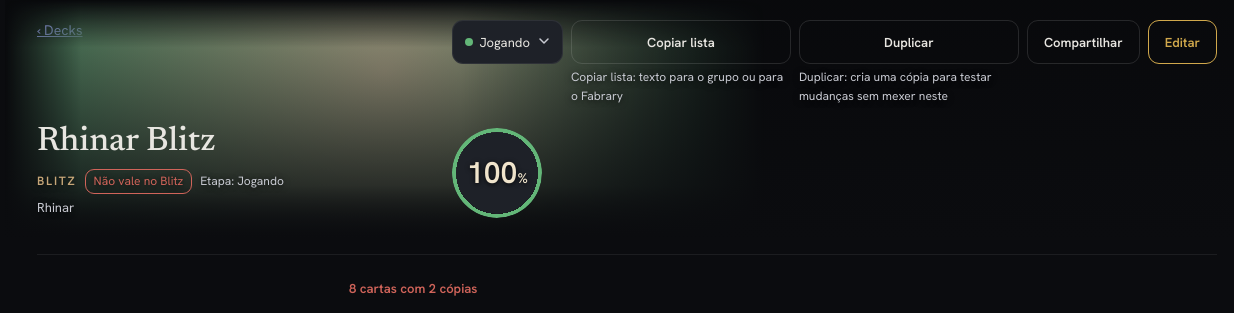
DeckDetailLayout — the verdict and the stage › the header shows the verdict and the stage apart
Expected: the text with test id "legality-badge" reads "Não vale no Blitz", [94, 173, 183, 189]
Expected: the text with test id "deck-stage-line" reads "Etapa: Jogando", [200, 173, 284, 189]
Click the dropdown at (508, 42), box [452, 20, 563, 64]
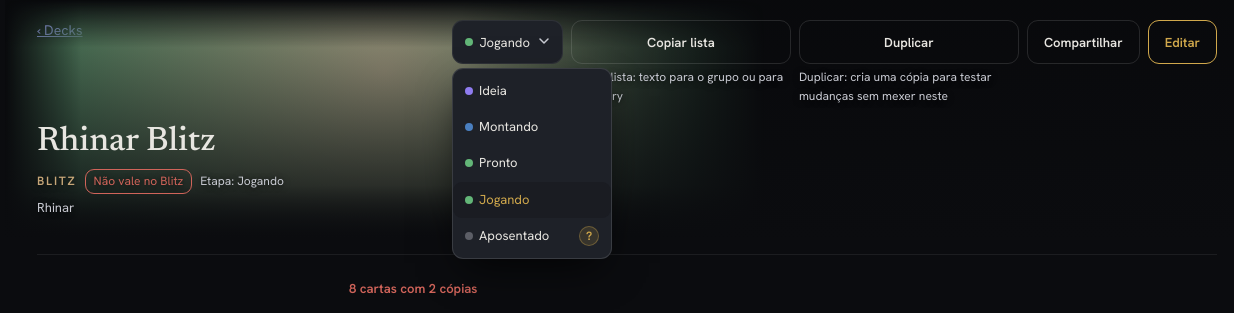
Expected: the options read "Ideia", "Montando", "Pronto", "Jogando", "Aposentado", in this order, [465, 82, 507, 99]; [465, 118, 538, 135]; [465, 154, 518, 171]; [453, 182, 611, 218]; [465, 227, 549, 244]
